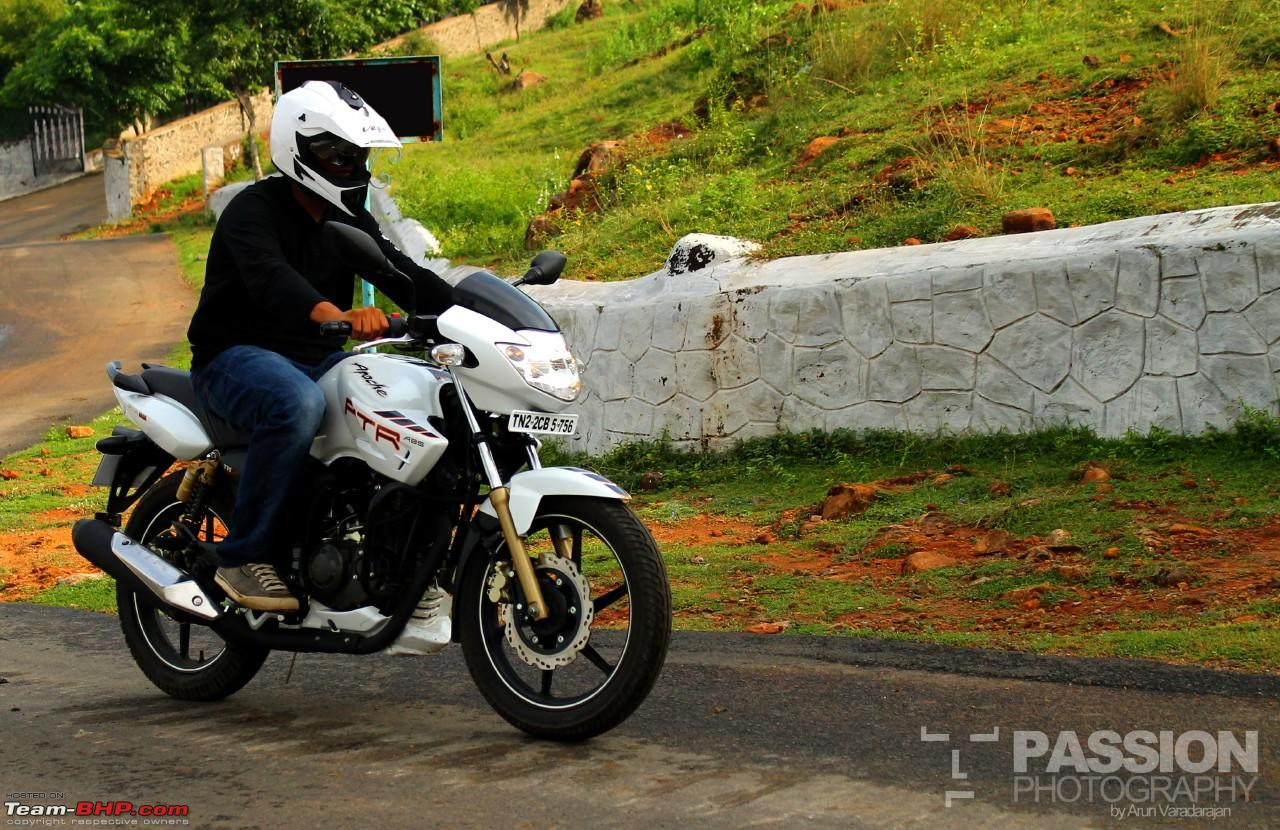helmet: (268, 87, 399, 193)
